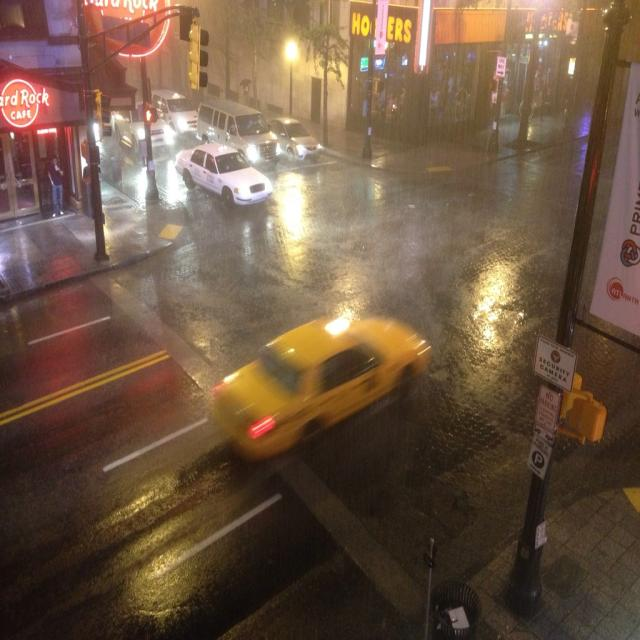car: (213, 311, 429, 459), (183, 136, 264, 205)
